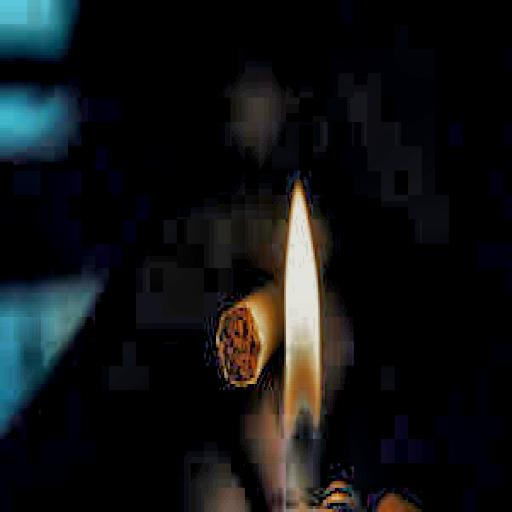fire: (274, 174, 332, 426)
